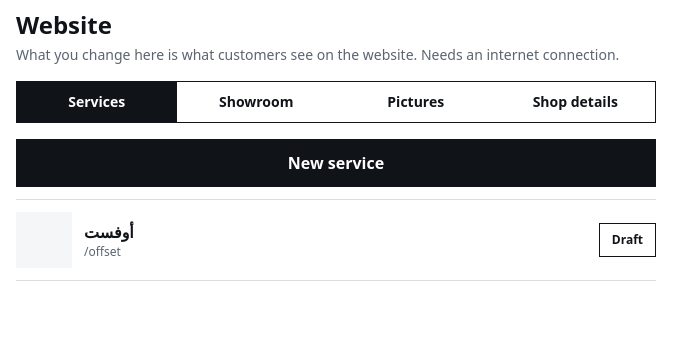
Test: the website editor › explains in plain words why publishing was refused
The image size is (677, 354).
Step 1. Click the button "Draft" → (627, 240), box [599,223,656,257]
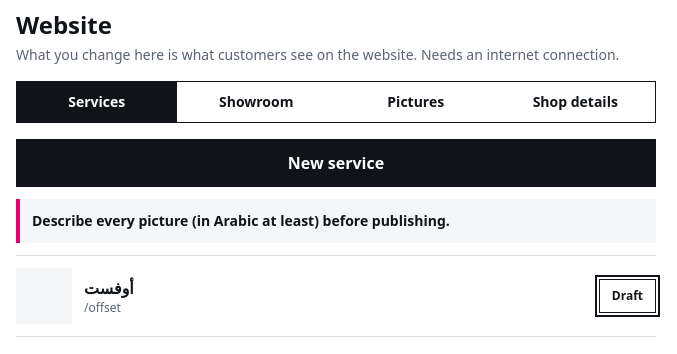
Check: the message reads "Describe every picture (in Arabic at least) before publishing.", box [32,211,450,230]
